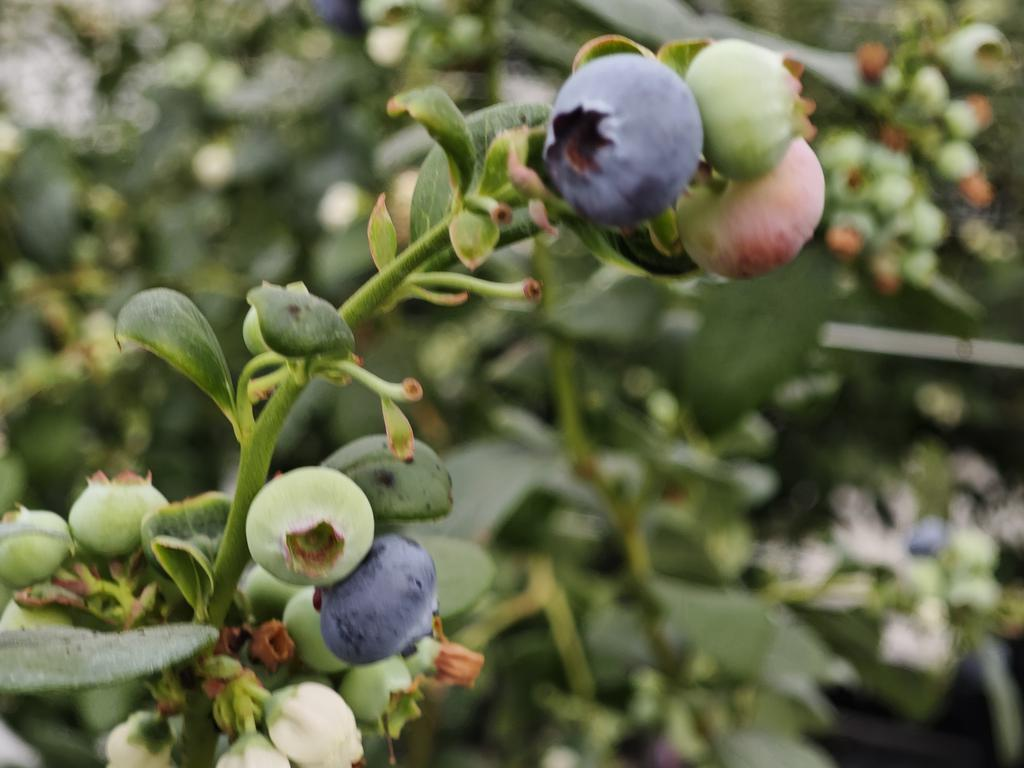RipeBlueBerry: (543, 53, 704, 226), (318, 530, 440, 664)
Semi-RipeBlueBerry: (680, 143, 826, 280)
UnripeBlueBerry: (243, 465, 376, 587), (692, 38, 804, 179)
